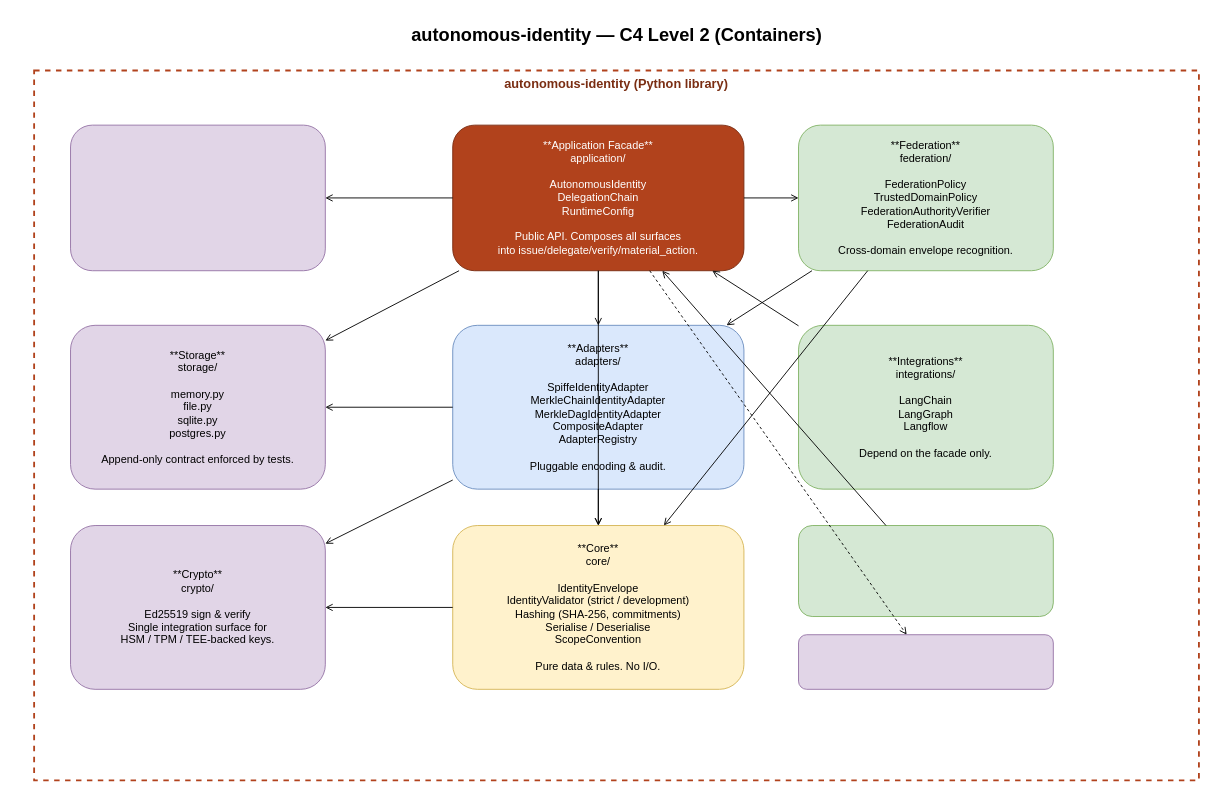
Image size: 1232x796. Some labels were removed from this diagram. Each missing label, with the box of its shape:
**CLI** cli/ asid — inspect, verify, replay: (798, 525, 1053, 617)
**Config** config/ RuntimeConfig — loaded once at startup.: (798, 634, 1053, 689)
**Tracing** tracing/ OpenTelemetry / Langfuse Optional; opt-in via extras.: (70, 124, 325, 271)
